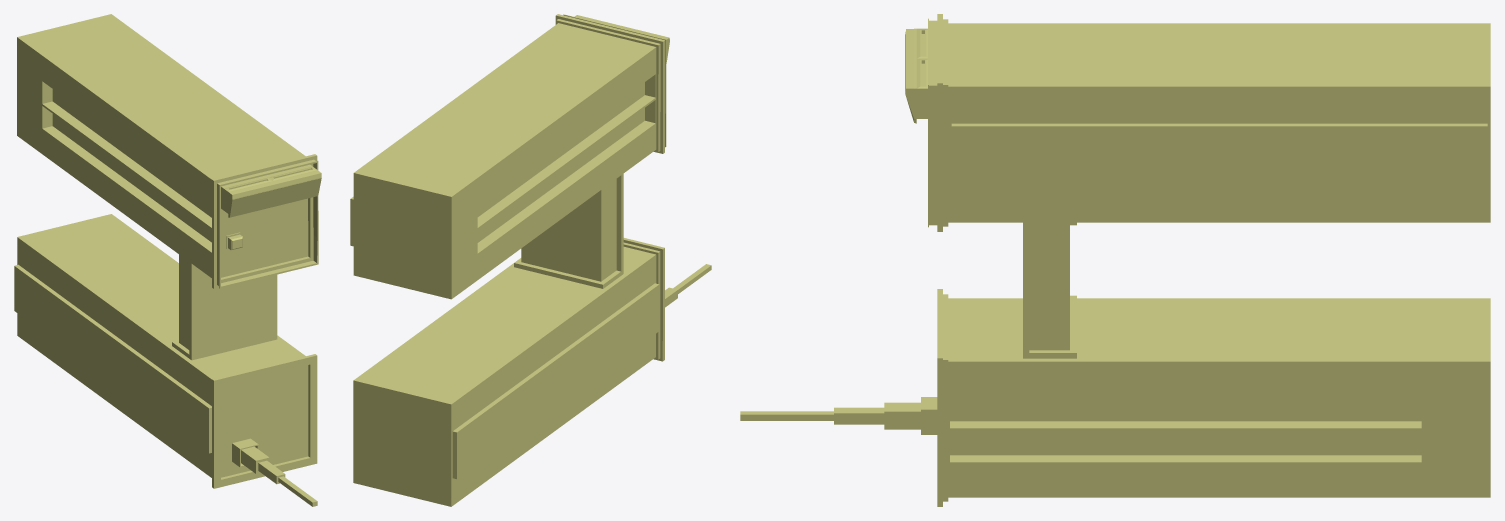
The model's file is building_03.gltf.
3 renders of one model, left to right at view 1: azimuth 30°, elevation 25°; view 2: azimuth 150°, elevation 25°; view 3: azimuth 270°, elevation 25°, orthographic. The views are drawn at different scales.
Visible parts, largest first — view 1: Node1; view 2: Node1; view 3: Node1.
Boxes of the visible parts, <box> form: Node1: <box>14,14,321,506</box>; Node1: <box>350,14,711,506</box>; Node1: <box>740,14,1490,506</box>.
Size of the model in its own units: 1.41 by 4.01 by 6.43.
